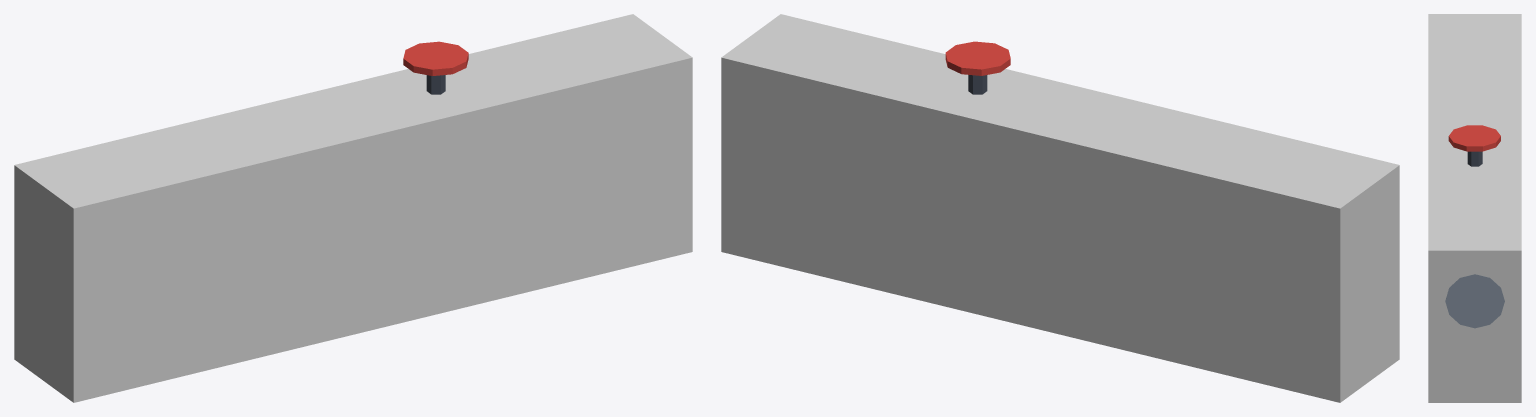
File: prop_pipe_a.glb
The picture shows the model from 3 angles, left to right: view 1: azimuth 30°, elevation 25°; view 2: azimuth 150°, elevation 25°; view 3: azimuth 270°, elevation 25°; orthographic projection. The views are drawn at different scales.
Parts seen in each view (by area): view 1: COL_prop_pipe_a_1, prop_pipe_a; view 2: COL_prop_pipe_a_1, prop_pipe_a; view 3: COL_prop_pipe_a_1, prop_pipe_a.
Part boxes in pixels (x1,y1,x2,y2): COL_prop_pipe_a_1: (14, 14, 692, 402); prop_pipe_a: (403, 41, 468, 94); COL_prop_pipe_a_1: (721, 14, 1399, 402); prop_pipe_a: (945, 41, 1010, 94); COL_prop_pipe_a_1: (1428, 14, 1521, 402); prop_pipe_a: (1445, 125, 1504, 328).
Bounding box in the file's own units: 3 × 1.07 × 0.5.
